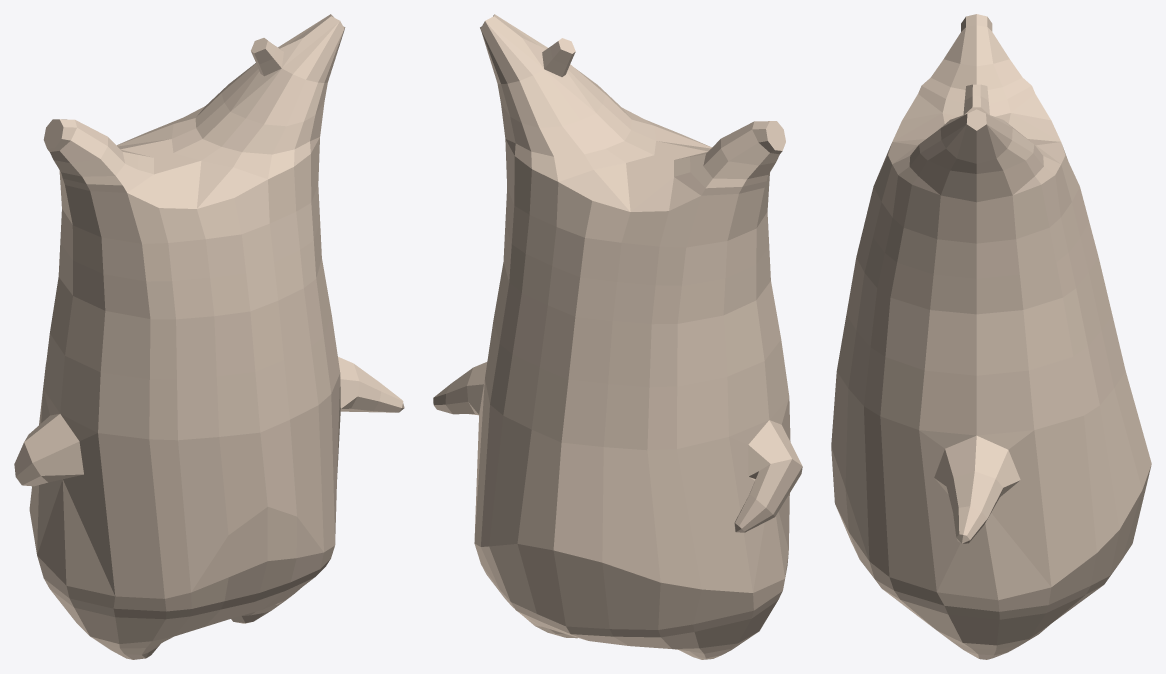
The model's file is frame_0016.obj.
3 views of the same model, side by side, from view 1: azimuth 30°, elevation 25°; view 2: azimuth 150°, elevation 25°; view 3: azimuth 270°, elevation 25° (orthographic).
Parts seen in each view (by area): view 1: korok; view 2: korok; view 3: korok.
Part boxes in pixels (x1,y1,x2,y2): korok: (14, 14, 404, 659); korok: (433, 14, 802, 659); korok: (831, 14, 1151, 659).
Size of the model in its own units: 1.41 by 2.16 by 1.06.
